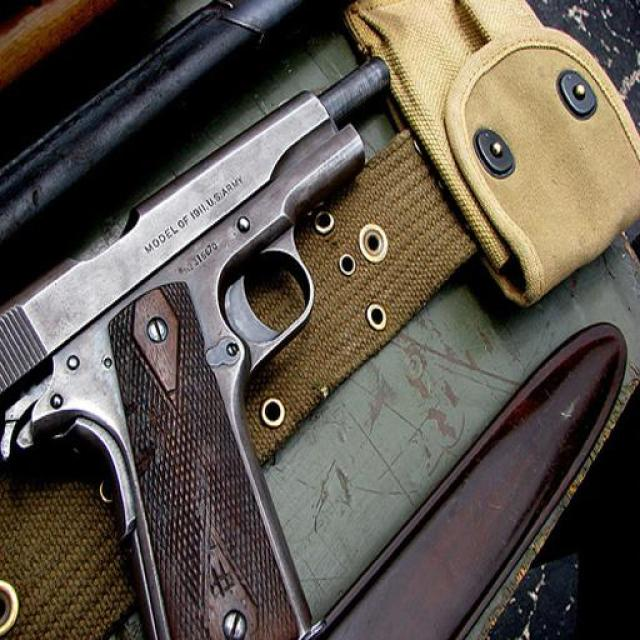pistol: (1, 53, 393, 639)
